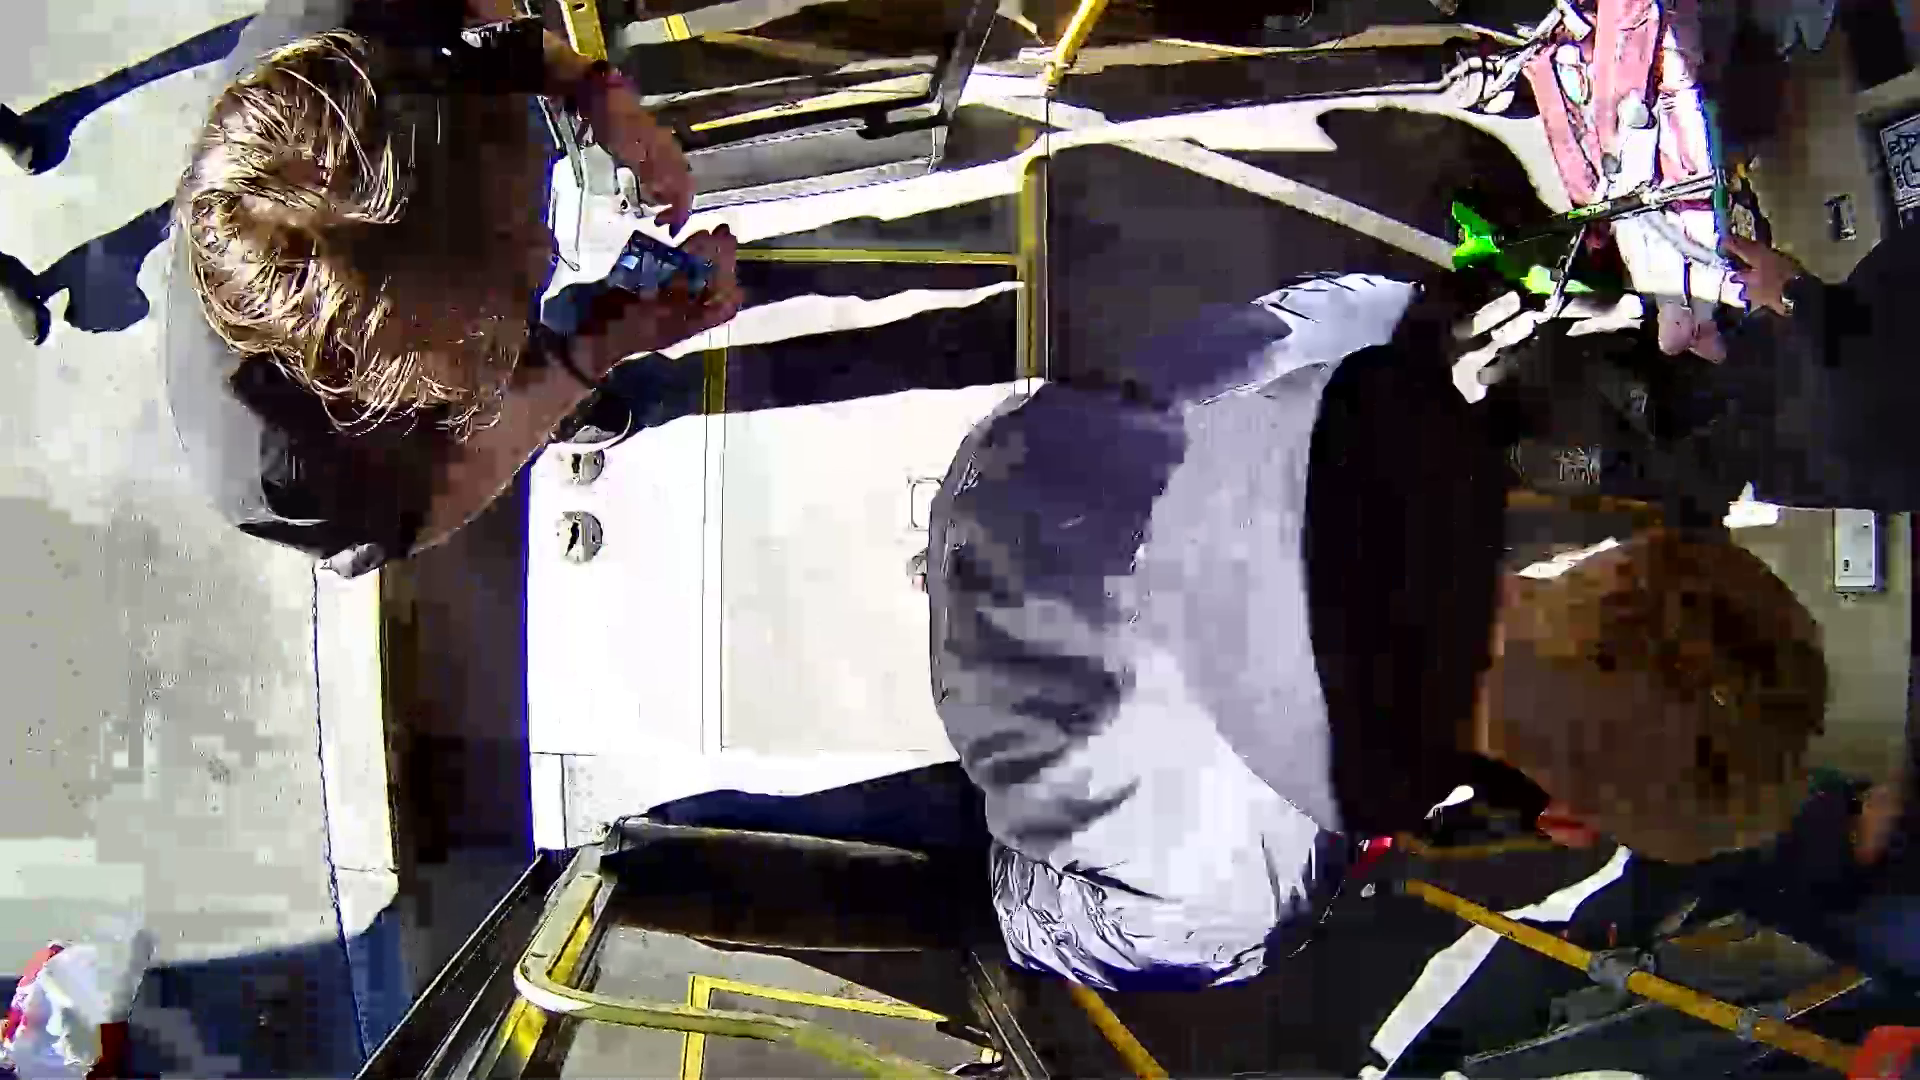person: (918, 168, 1837, 995), (119, 47, 770, 554)
